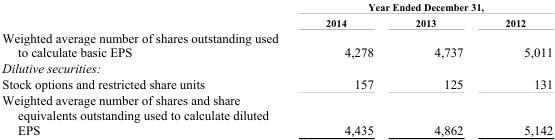table: (1, 0, 552, 136)
table column: (1, 0, 301, 136), (301, 0, 393, 136), (393, 0, 483, 136), (483, 0, 552, 136)
table column header: (1, 0, 552, 29)
table projected row header: (1, 59, 552, 75)
table row: (1, 91, 552, 136), (1, 29, 552, 59), (1, 59, 552, 75), (1, 75, 552, 91), (1, 14, 552, 29), (1, 0, 552, 14)
table spanning cell: (301, 0, 552, 14)
